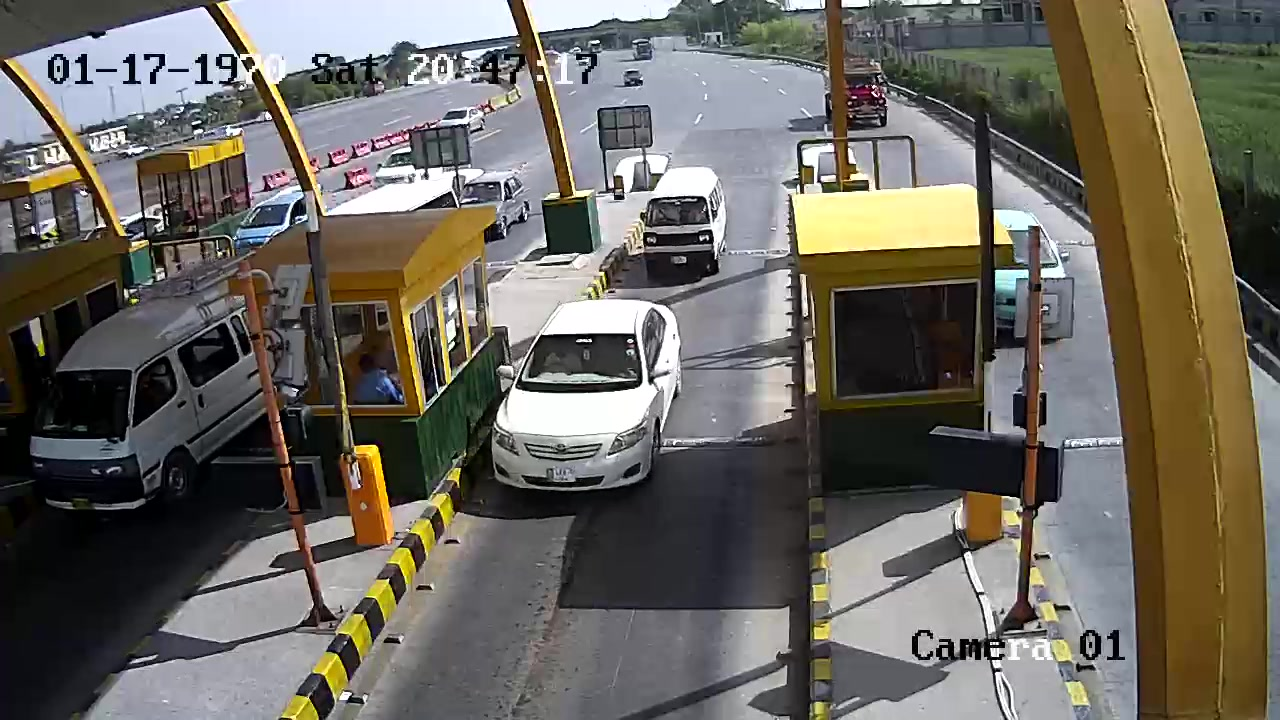F1: (491, 290, 708, 499), (644, 164, 732, 287)
